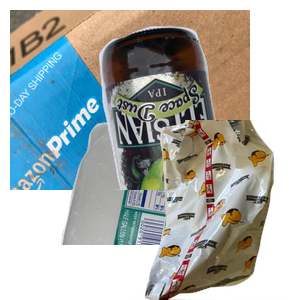cardboard: (10, 10, 250, 190)
glass: (97, 24, 300, 204)
plastic: (58, 120, 298, 300)
trash: (127, 120, 300, 300)
